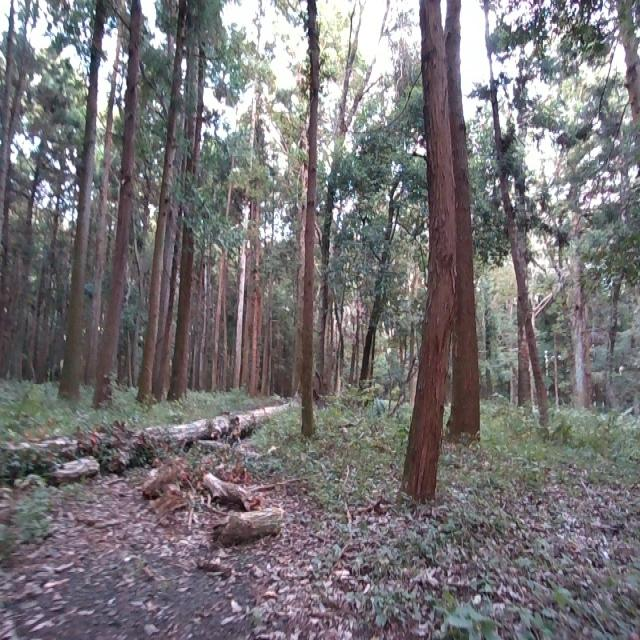tree: (480, 0, 560, 428), (399, 0, 458, 501), (0, 403, 296, 484), (136, 0, 189, 403), (94, 0, 146, 410), (166, 0, 213, 407), (444, 0, 485, 450), (63, 0, 108, 408), (357, 125, 413, 409), (299, 0, 324, 443), (230, 54, 261, 388), (569, 69, 590, 411), (192, 466, 273, 520), (206, 503, 293, 546)
